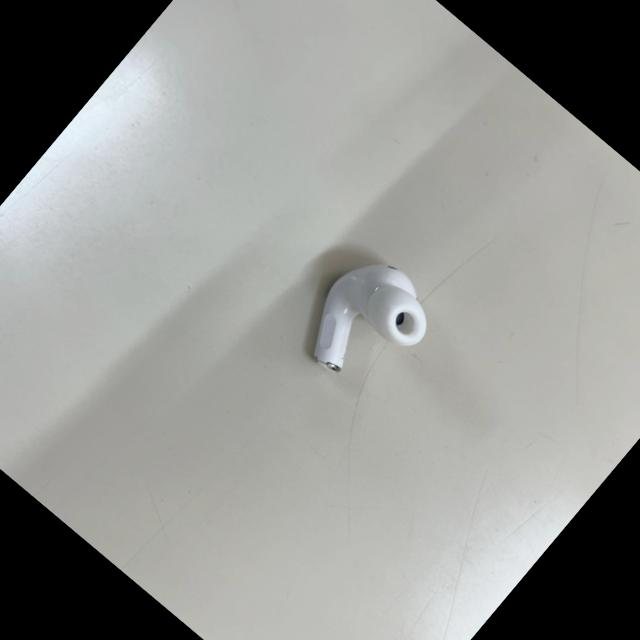inorganic: (284, 239, 448, 406)
